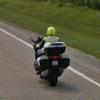Motorcycle: (26, 28, 67, 92)
